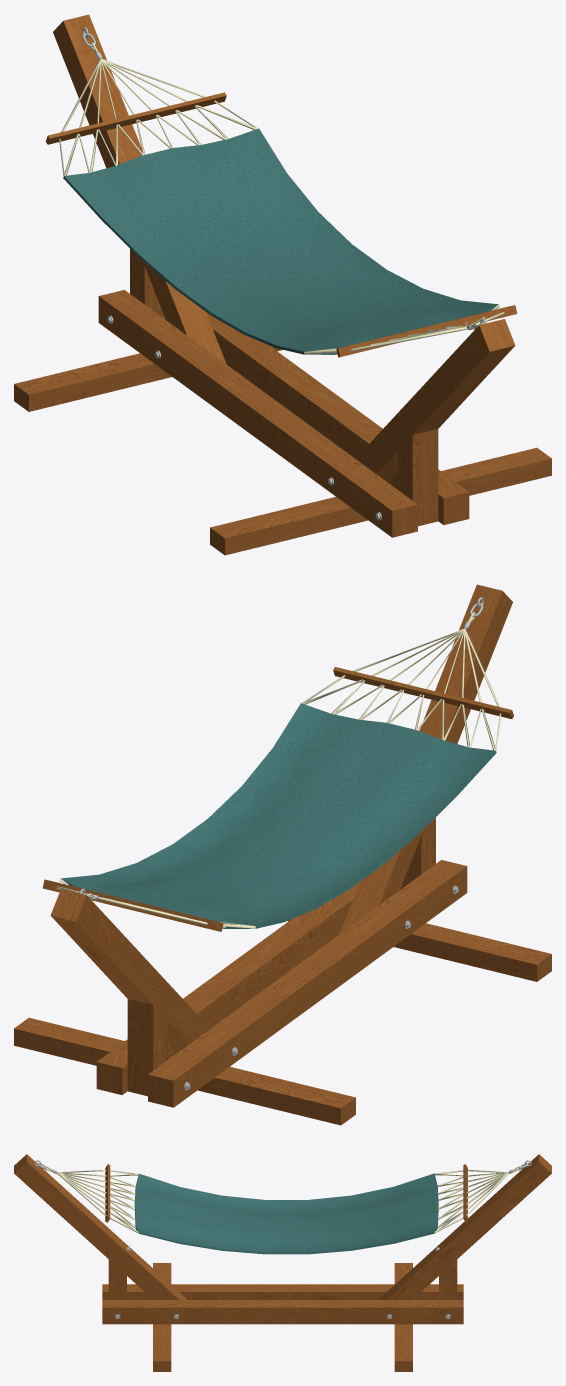
File: object_hammock.glb
3 views of the same model, one above another, from view 1: azimuth 30°, elevation 25°; view 2: azimuth 150°, elevation 25°; view 3: azimuth 270°, elevation 25° (orthographic). The views are drawn at different scales.
Parts seen in each view (by area): view 1: Material-material; view 2: Material-material; view 3: Material-material.
Boxes of the visible parts, x1,y1,x2,y2 form: Material-material: (14,14,551,555); Material-material: (14,584,551,1125); Material-material: (14,1154,551,1371).
Bounding box in the file's own units: 1.36 × 1.07 × 3.15.
Materials: 1 (1 with a texture image).
